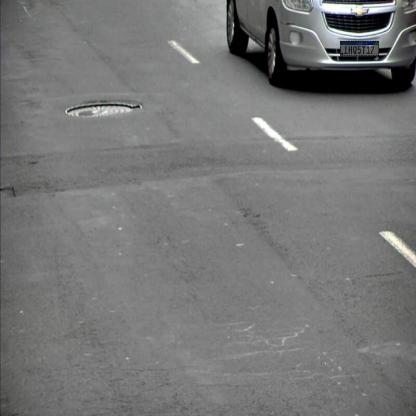PlacaM: (340, 41, 379, 56)
